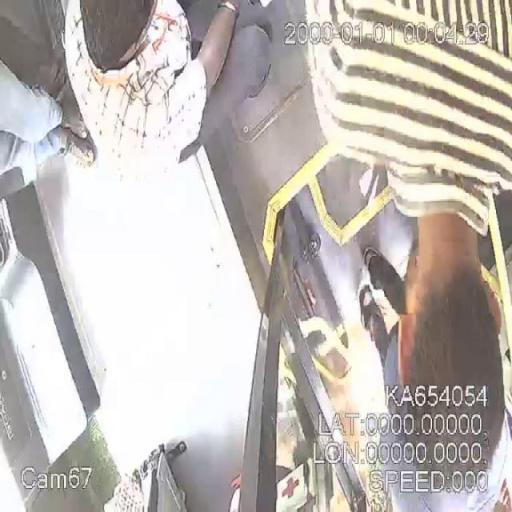persona: (304, 1, 510, 491), (1, 0, 242, 182)
